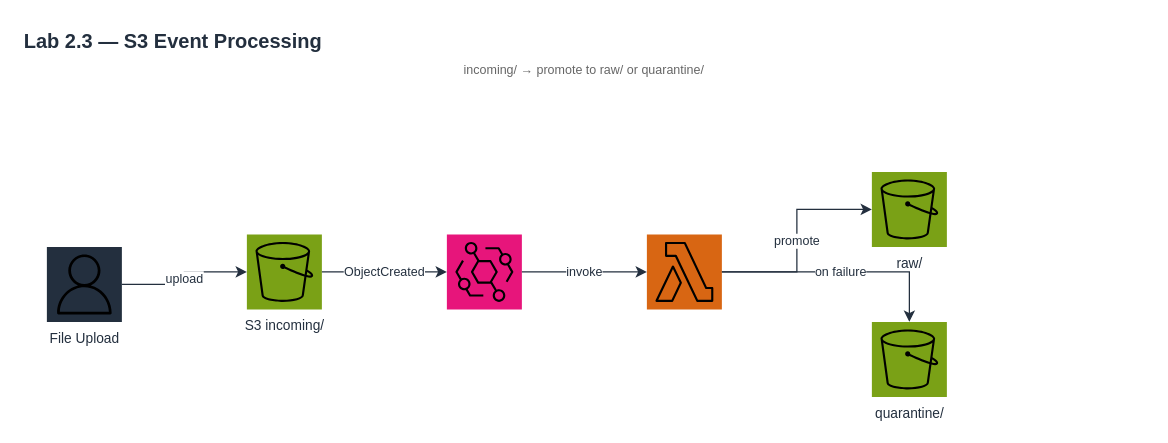
The diagram is 1168 pixels wide and 443 high, and some of its shapes have lost their labels. Each missing label, with the box of its shape:
Lambda s3-event-ingest: (646, 234, 721, 309)
S3 Event Notification: (446, 234, 521, 309)
